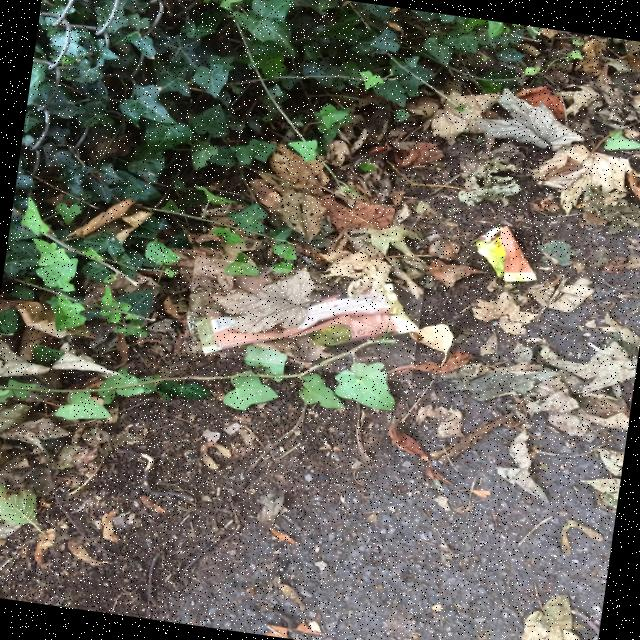Other plastic: (188, 285, 419, 355), (475, 227, 537, 283)
